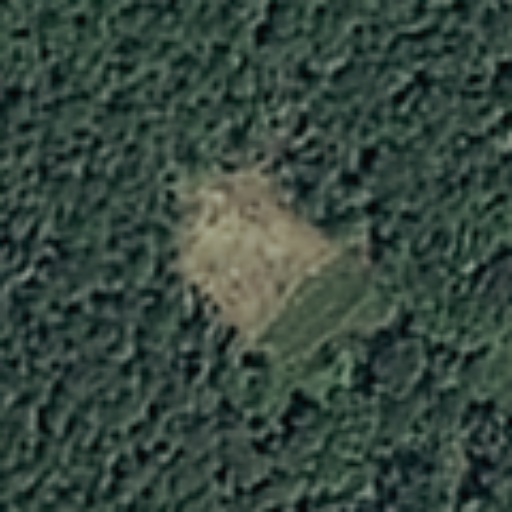landslide: (170, 171, 336, 327)
